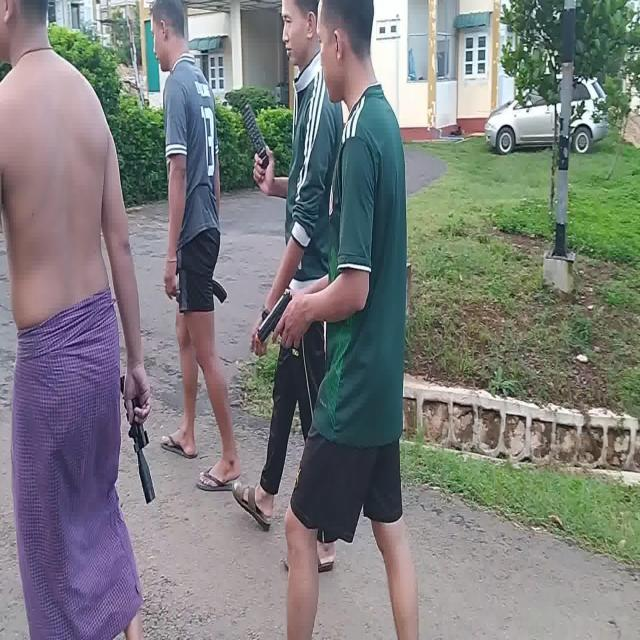gun: (257, 290, 293, 338)
